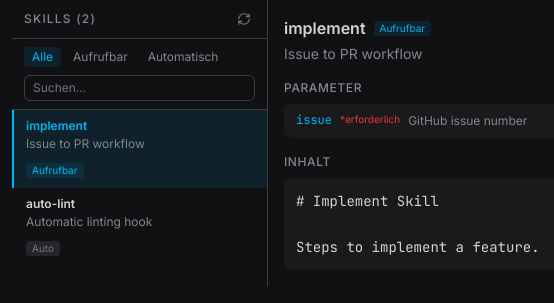
Test: SkillsViewer › returns to full list when filter switches back to Alle
The image size is (554, 303).
Check: the text "Skills (2)" is shown, box [24, 11, 96, 27]
Click the button "Aufrufbar" at (100, 57), box [65, 47, 136, 67]
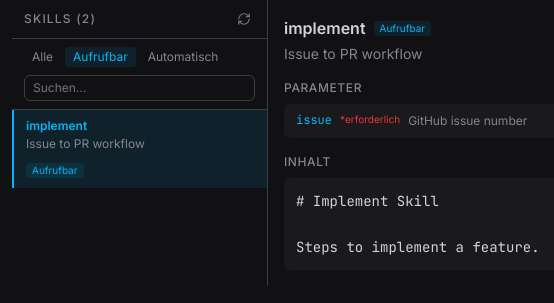
Check: the button "auto-lint" is gone
Click the button "Alle" at (43, 57), box [24, 47, 61, 67]
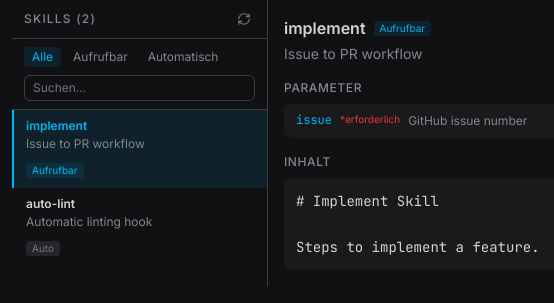
Check: the text "auto-lint" is shown, box [26, 196, 75, 212]
